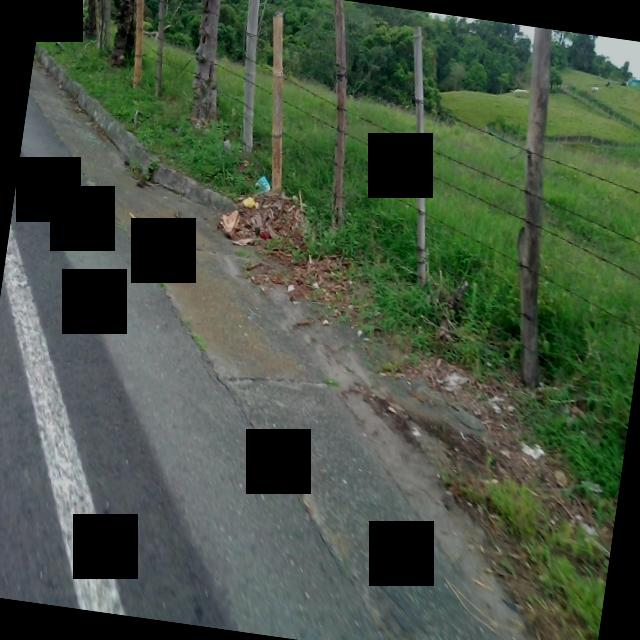DITCH: (0, 46, 640, 640), (0, 84, 640, 640)
